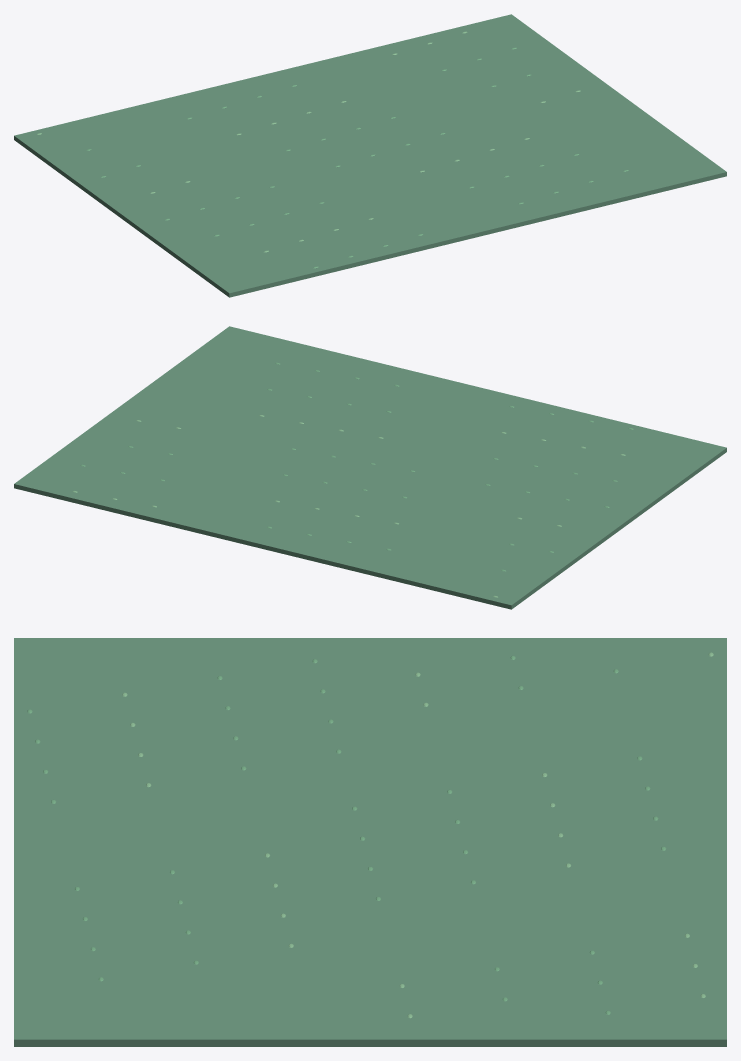
File: terreno_selva.glb
3 renders of one model, top to bottom at view 1: azimuth 30°, elevation 25°; view 2: azimuth 150°, elevation 25°; view 3: azimuth 270°, elevation 25°, orthographic. The views are drawn at different scales.
Parts seen in each view (by area): view 1: terreno_selva; view 2: terreno_selva; view 3: terreno_selva.
Part boxes in pixels (<box>): terreno_selva: <box>14,14,726,297</box>; terreno_selva: <box>14,326,726,609</box>; terreno_selva: <box>14,638,726,1046</box>.
Size of the model in its own units: 120 by 1.13 by 90.
